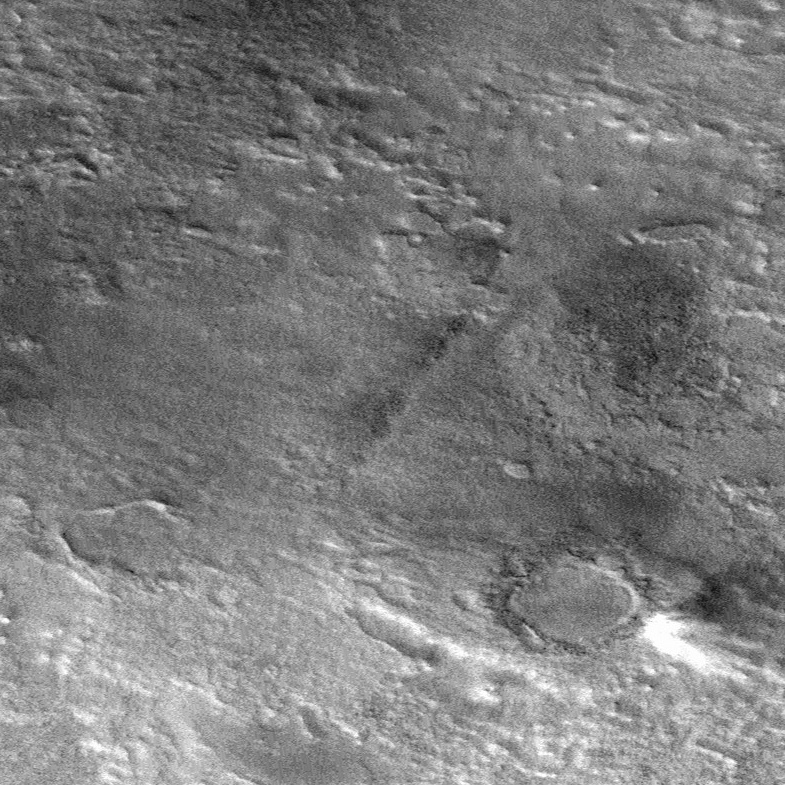dust_devil: (634, 557, 785, 689)
